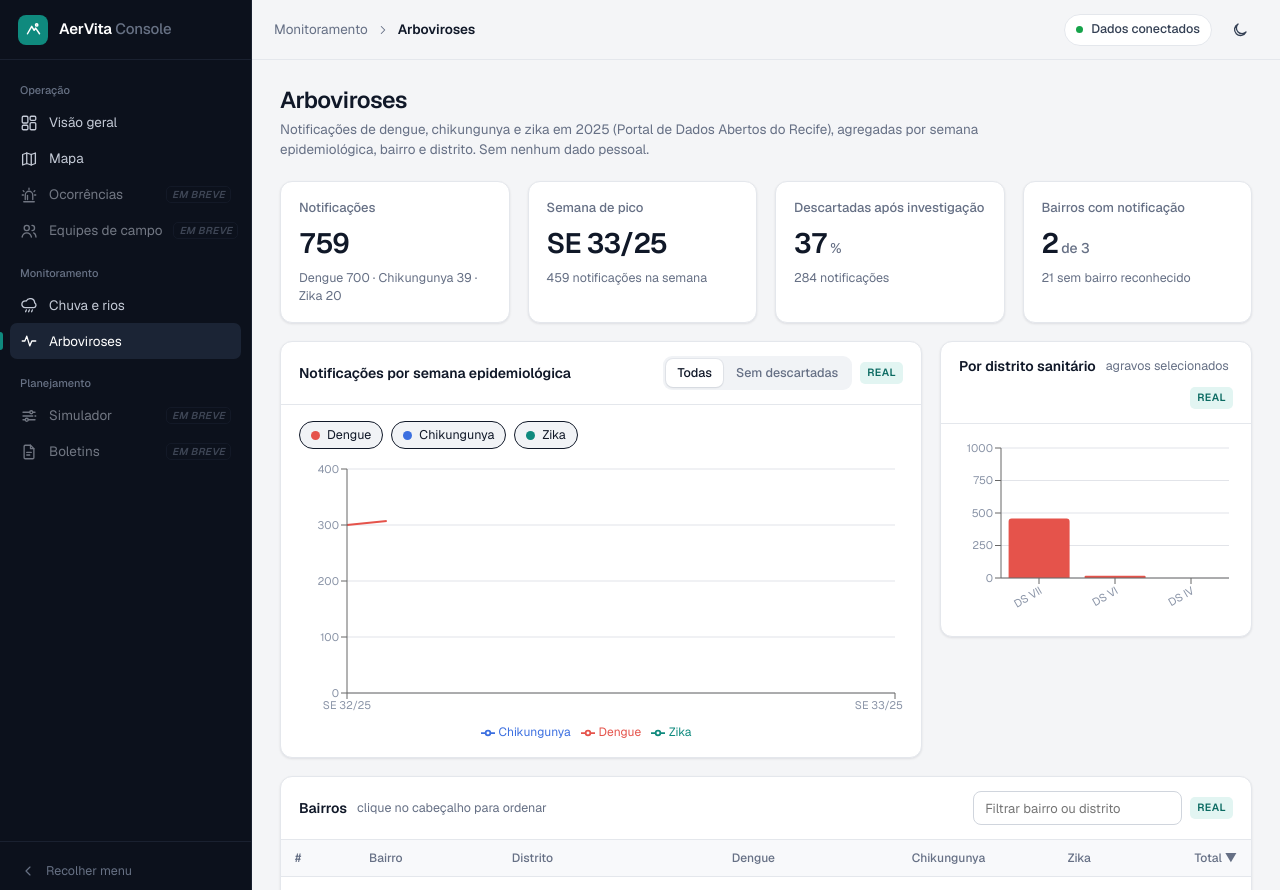
Scenario: arboviroses: tabela filtra sem acento e ordena pela coluna
Click the button "Bairro".
click(386, 858)  # box [369, 849, 403, 867]
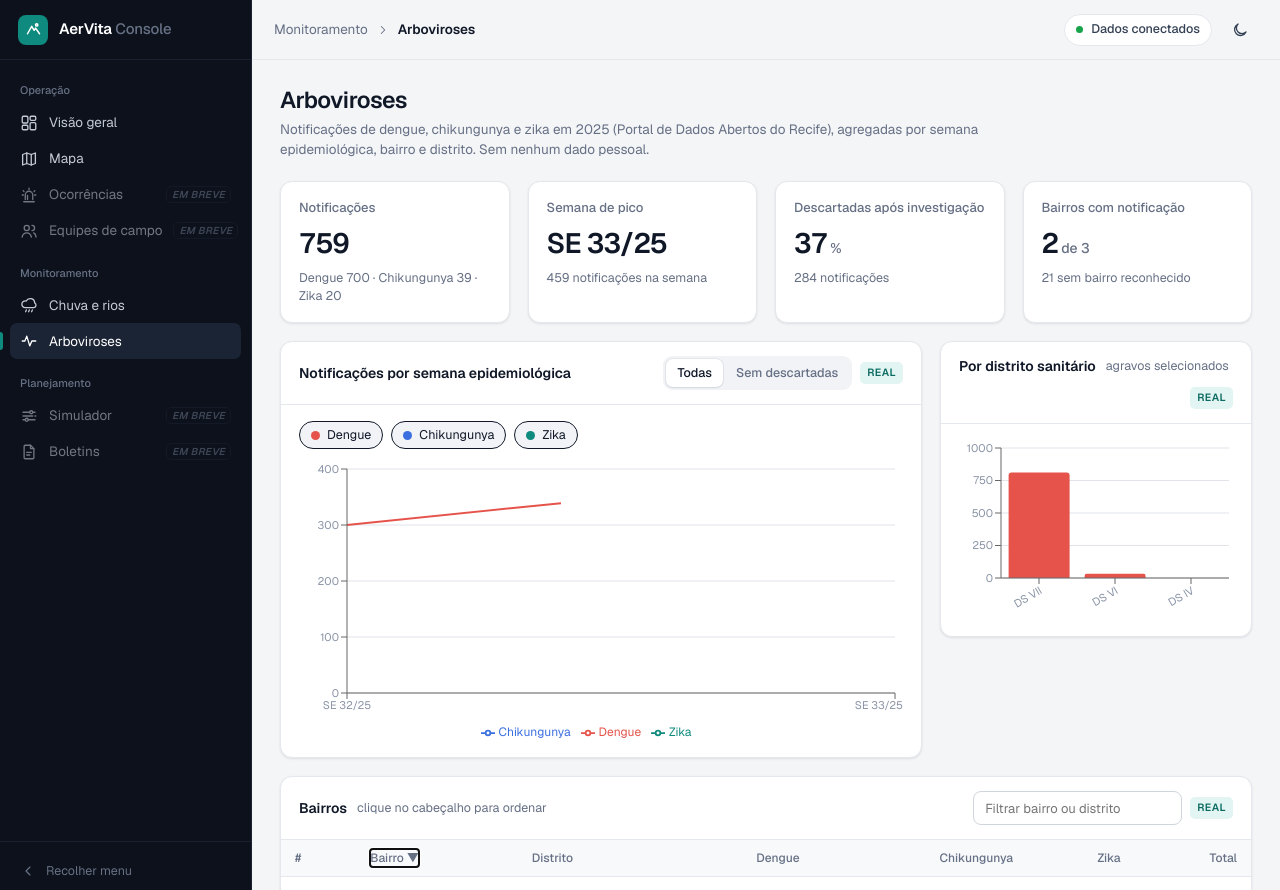
Type "ds vi" into the search field labelled "Filtrar bairro ou distrito".
click(1078, 808); type("ds vi")  # box [973, 791, 1182, 825]
(page scrolled)
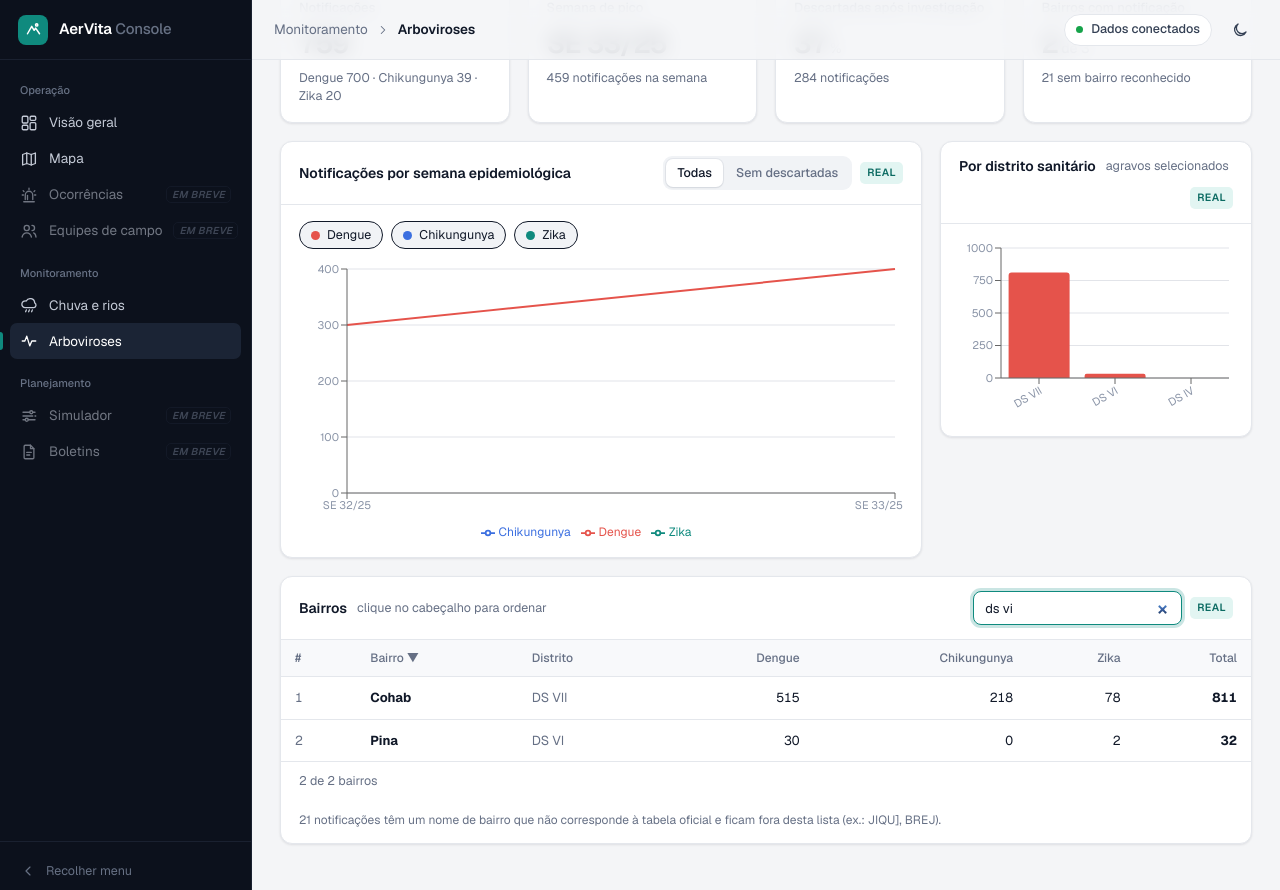
Expected: the text "21 notificações têm um nome de bairro" is shown, [299, 812, 941, 828]
Now the number of rows is 3, box [281, 640, 1251, 677]; [281, 677, 1251, 720]; [281, 720, 1251, 761]
